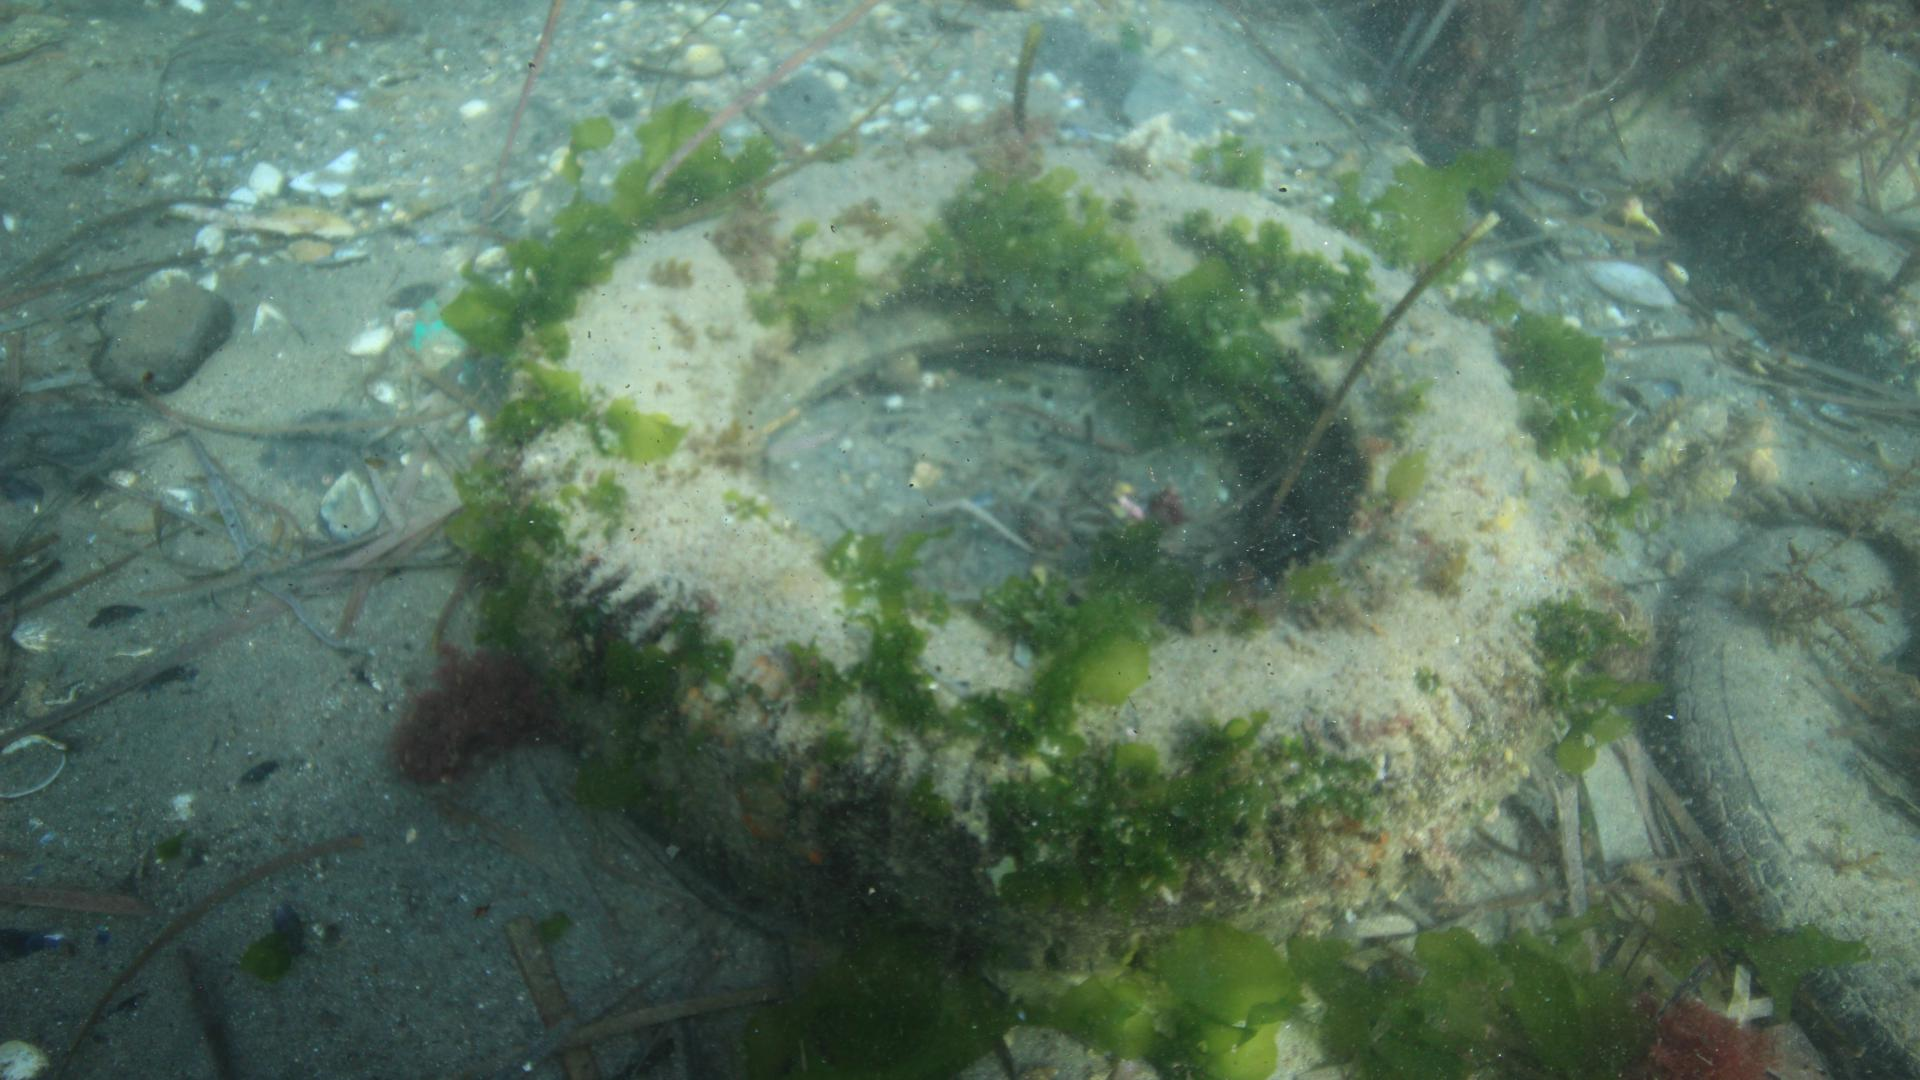tire: (489, 140, 1617, 967)
